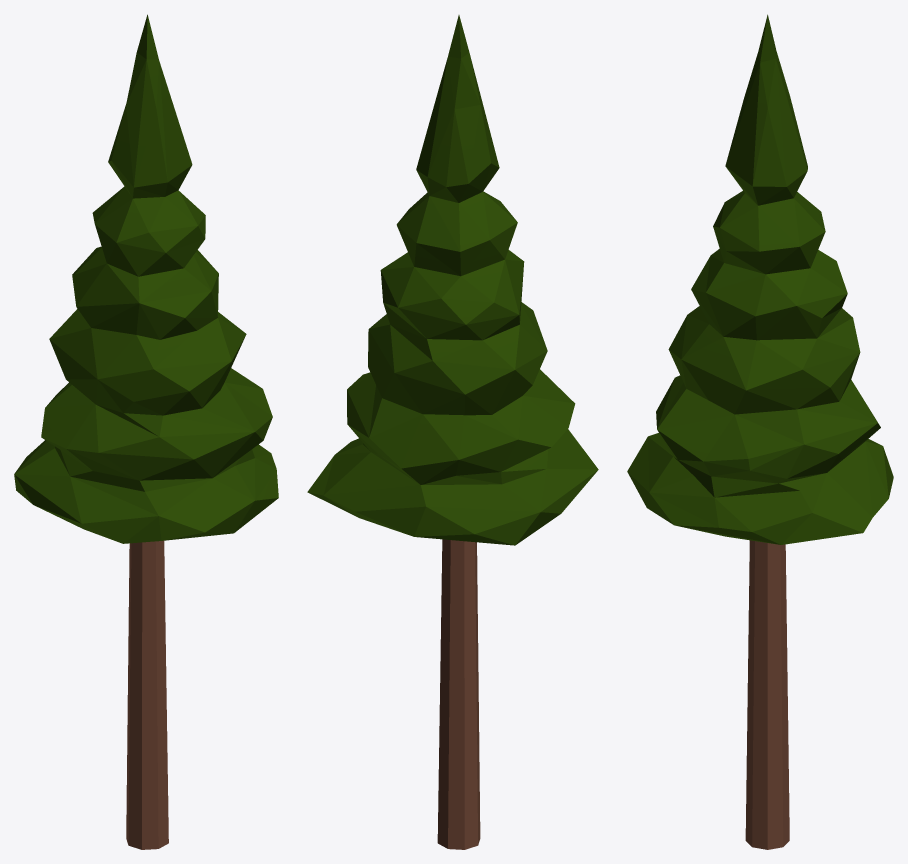
Rendered from Pine_Tall_A.glb.
3 renders of one model, left to right at view 1: azimuth 30°, elevation 25°; view 2: azimuth 150°, elevation 25°; view 3: azimuth 270°, elevation 25°, orthographic.
Parts seen in each view (by area): view 1: Pine_Tall_A_LOD0; view 2: Pine_Tall_A_LOD0; view 3: Pine_Tall_A_LOD0.
Boxes of the visible parts, <box> form: Pine_Tall_A_LOD0: <box>14,14,278,849</box>; Pine_Tall_A_LOD0: <box>307,15,598,849</box>; Pine_Tall_A_LOD0: <box>627,14,893,849</box>.
Size of what is drawn, in the model's own units: 3.02 by 10.66 by 3.12.
